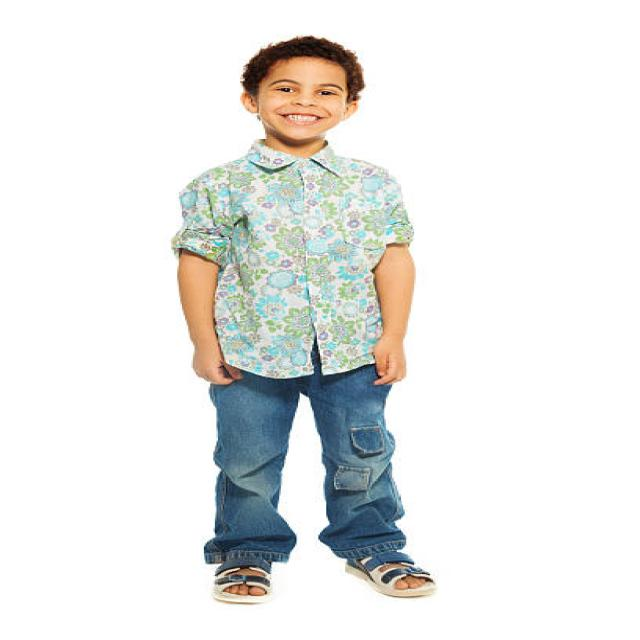child: (162, 19, 461, 603)
